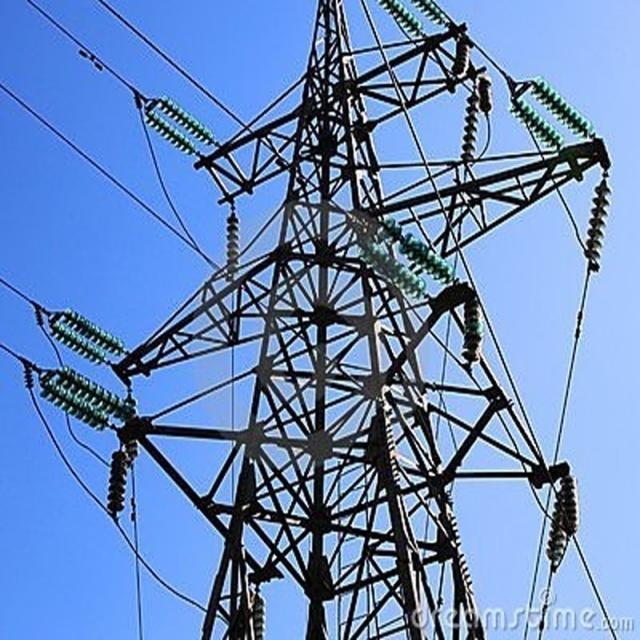non-critical vegetation: (135, 25, 540, 630)
